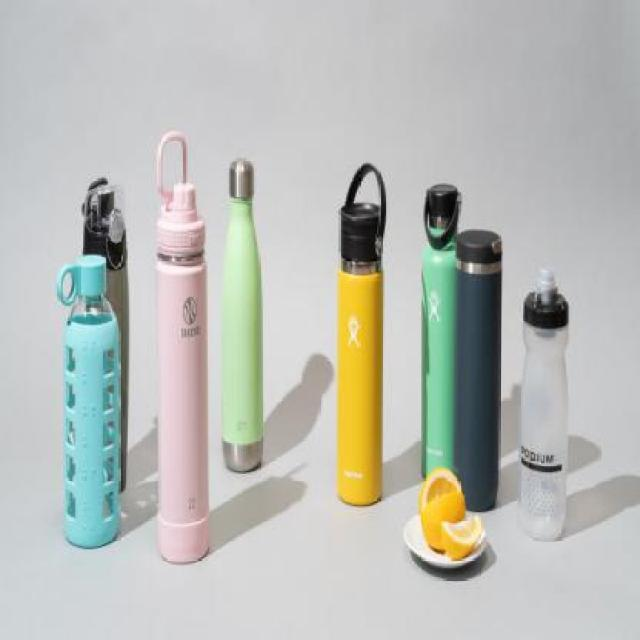Drinking: (411, 172, 507, 532), (144, 130, 218, 578), (332, 143, 391, 506), (211, 150, 272, 490), (526, 255, 568, 559)
